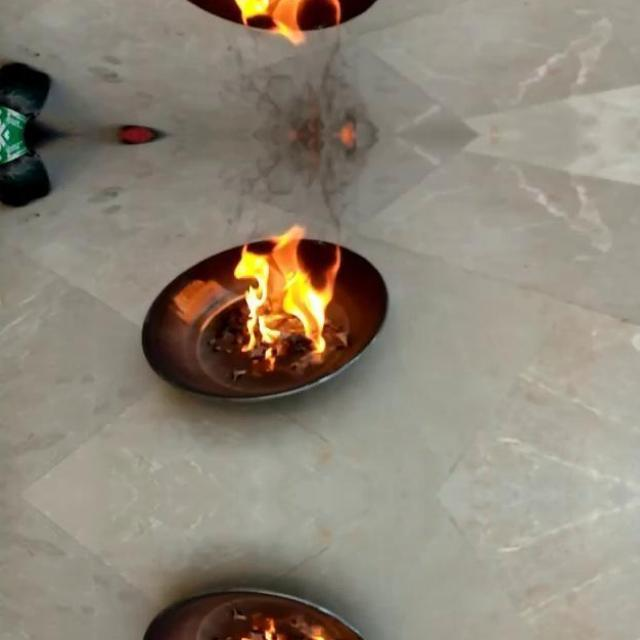smoke: (230, 223, 340, 360), (230, 0, 340, 47)
